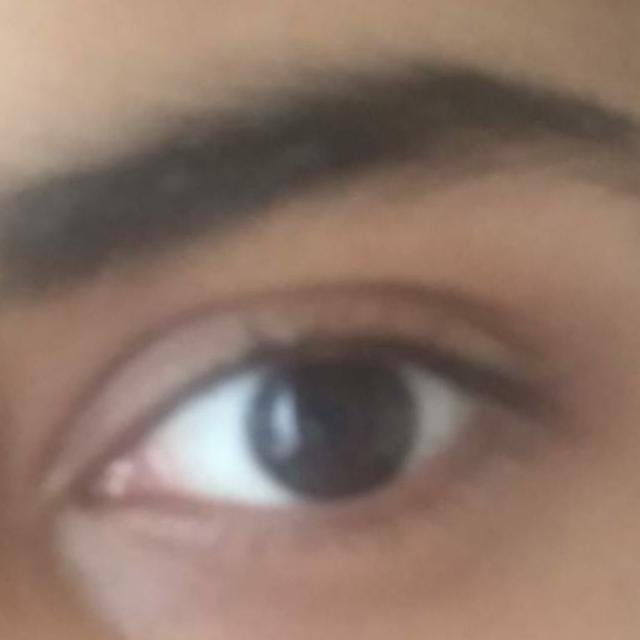eye: (142, 352, 477, 512)
iris: (246, 358, 418, 502)
